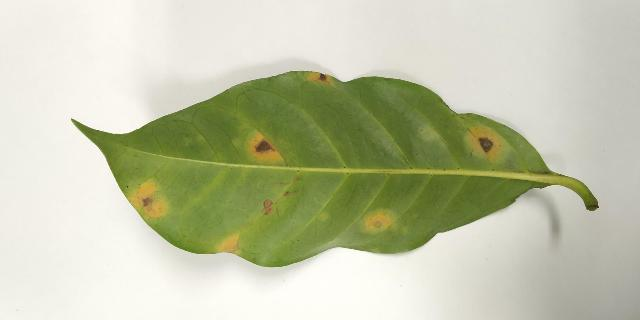miner: (127, 181, 168, 219), (467, 126, 506, 164), (247, 132, 283, 163), (363, 210, 395, 231), (216, 232, 240, 255), (306, 72, 333, 86), (262, 199, 273, 216)
